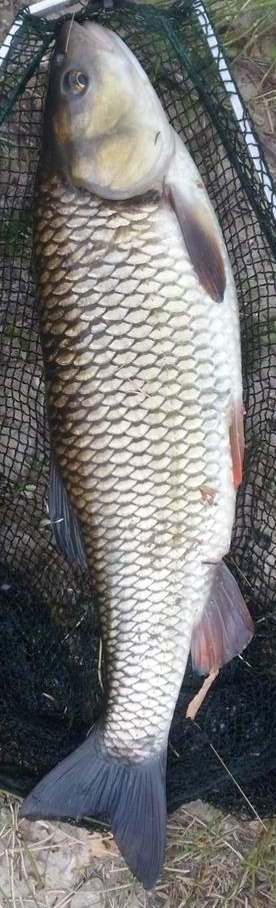Leuciscus cephalus: (20, 20, 256, 888)
